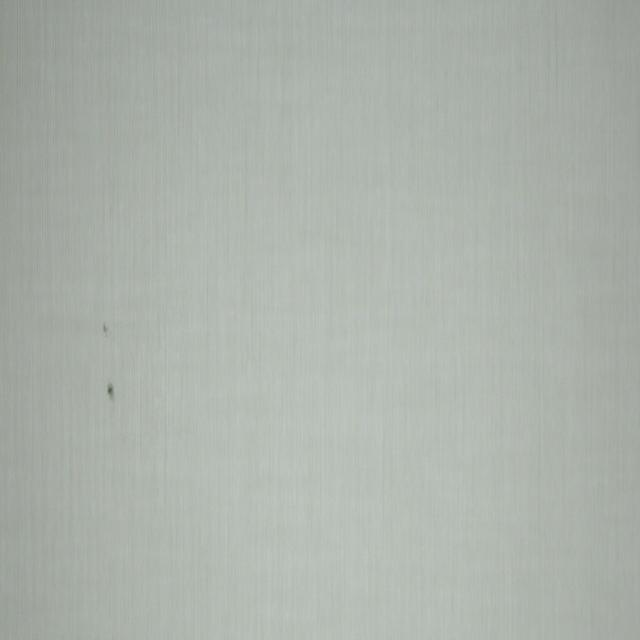dirty: (107, 379, 116, 403), (101, 320, 109, 335)
